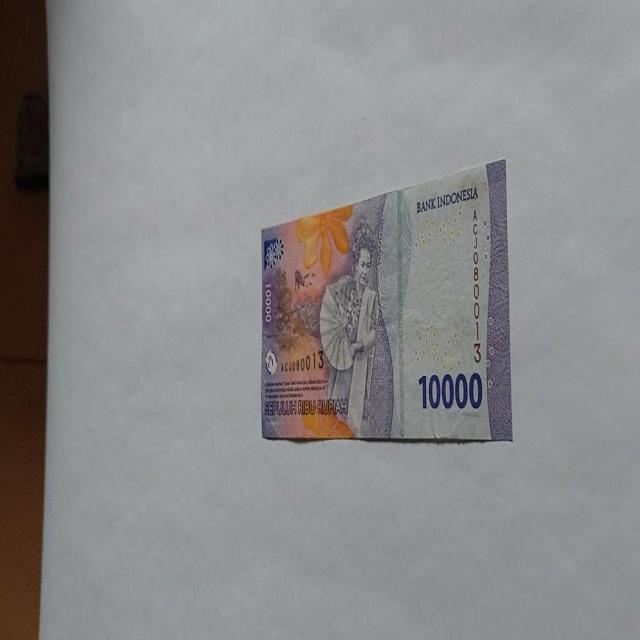Kertas: (260, 158, 512, 444), (417, 369, 483, 412)
